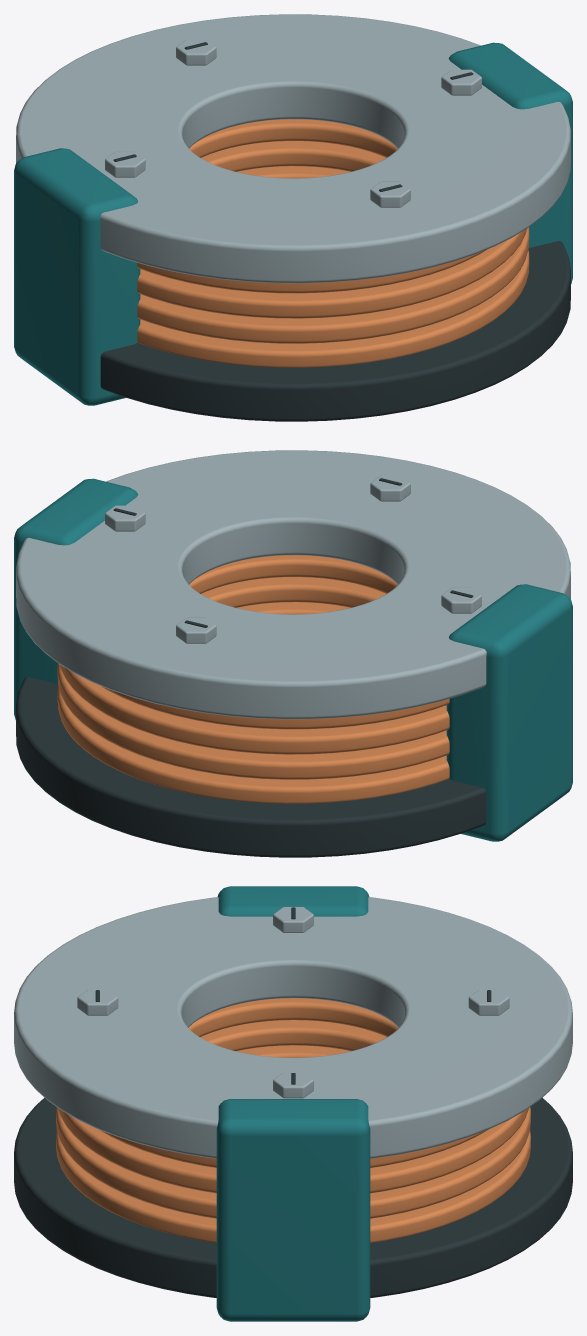
Rendered from SM_VCoil.fbx.
The picture shows the model from 3 angles, top to bottom: view 1: azimuth 30°, elevation 25°; view 2: azimuth 150°, elevation 25°; view 3: azimuth 270°, elevation 25°; orthographic projection.
Parts seen in each view (by area): view 1: SM_VCoil; view 2: SM_VCoil; view 3: SM_VCoil.
Part boxes in pixels (<box>): SM_VCoil: <box>14,14,572,421</box>; SM_VCoil: <box>14,450,572,857</box>; SM_VCoil: <box>14,886,572,1321</box>.
Size of the model in its own units: 41 by 40 by 16.59.
